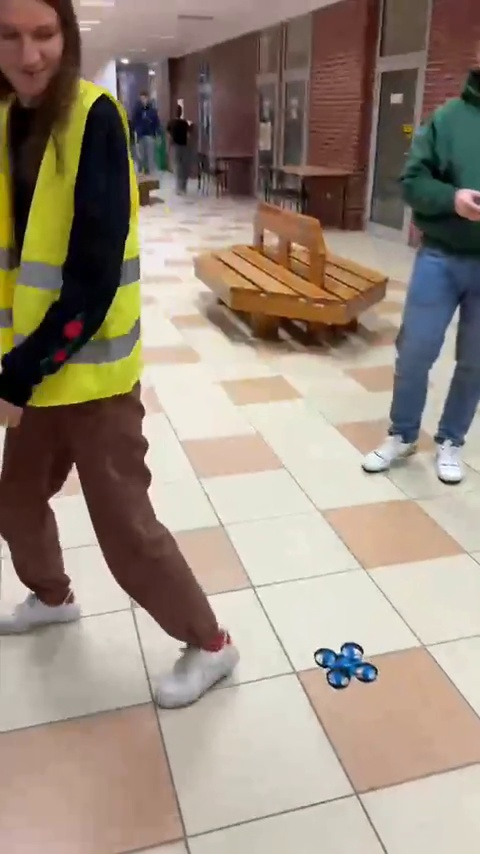drone: (310, 640, 375, 686)
no vest: (374, 44, 480, 467), (166, 98, 203, 209), (123, 85, 161, 179)
vest: (2, 3, 243, 713)
